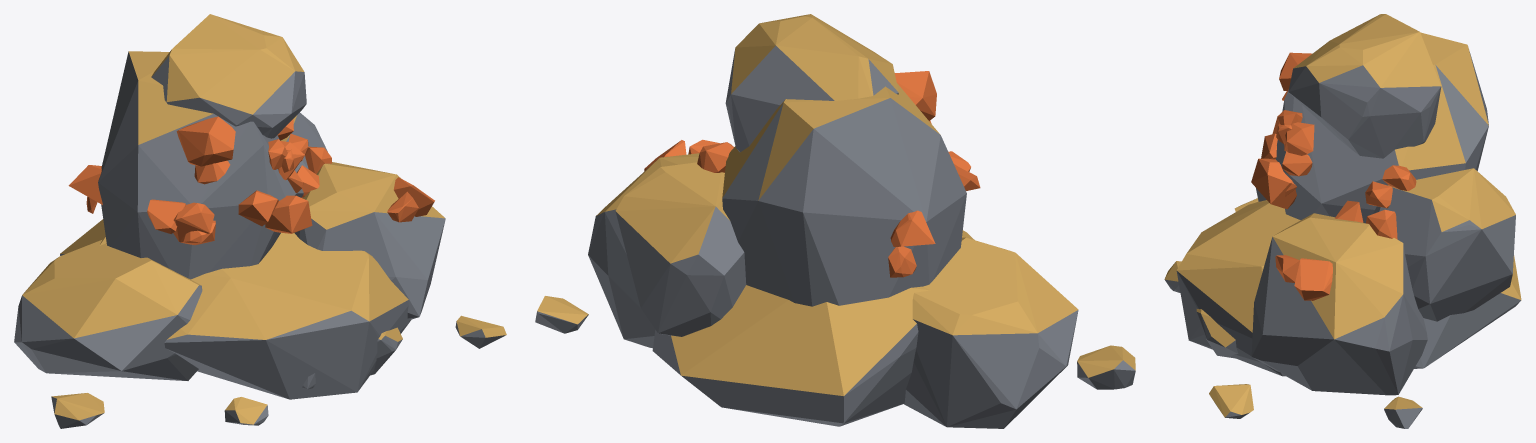
Rendered from copper_vein.glb.
The picture shows the model from 3 angles, left to right: view 1: azimuth 30°, elevation 25°; view 2: azimuth 150°, elevation 25°; view 3: azimuth 270°, elevation 25°; orthographic projection. The views are drawn at different scales.
Visible parts, largest first — view 1: CopperVein; view 2: CopperVein; view 3: CopperVein.
Part boxes in pixels (x1,y1,x2,y2): CopperVein: (14, 14, 506, 428); CopperVein: (535, 14, 1135, 428); CopperVein: (1164, 14, 1521, 428).
Size of the model in its own units: 1.25 by 0.7938 by 0.8729.
